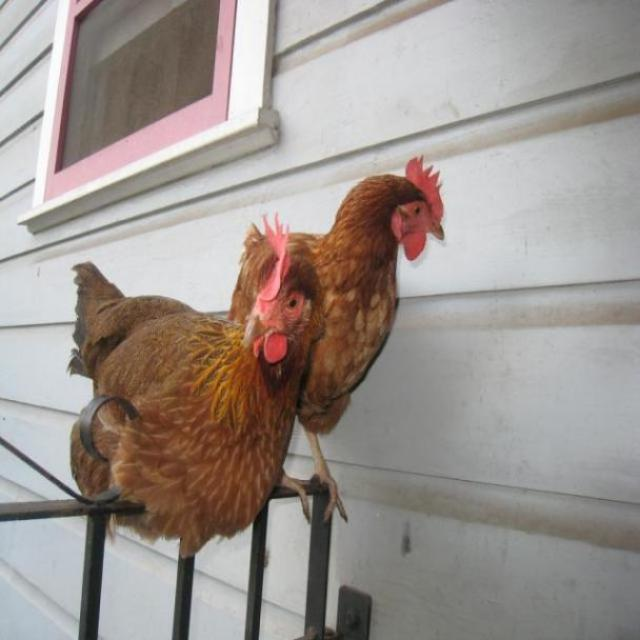Chicken: (65, 205, 321, 561), (234, 155, 445, 522)
